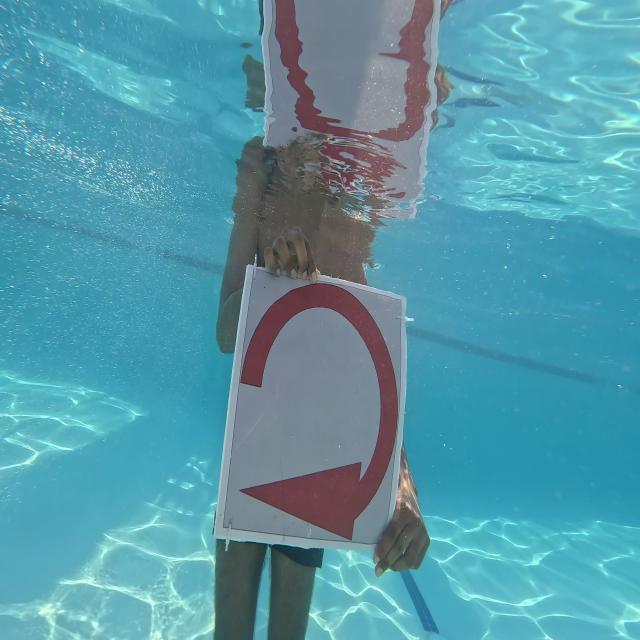red_side: (236, 271, 402, 548)
